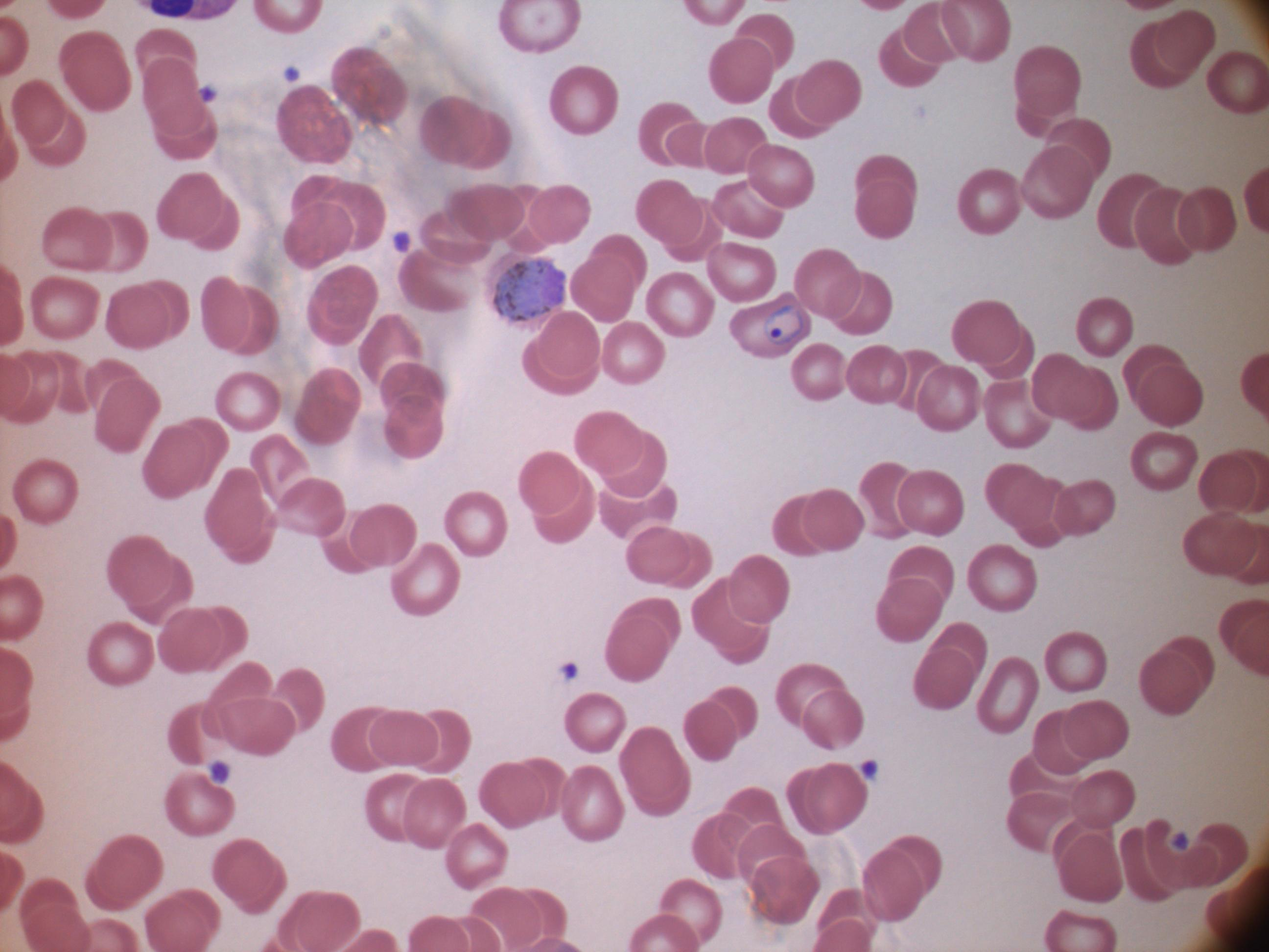Infected: (485, 248, 567, 330), (728, 293, 809, 359)
Uninfected: (774, 661, 864, 752), (575, 409, 666, 499), (875, 546, 959, 643), (107, 535, 193, 626), (46, 204, 150, 277), (156, 169, 245, 253), (520, 307, 604, 396), (203, 464, 279, 562), (142, 416, 228, 502), (567, 233, 647, 324), (910, 620, 989, 712), (769, 58, 860, 137), (419, 95, 512, 172), (690, 578, 774, 663), (1020, 139, 1107, 221), (1029, 352, 1118, 432), (1132, 7, 1220, 87), (1121, 347, 1204, 431), (860, 836, 941, 922), (91, 364, 168, 454), (376, 362, 448, 458), (284, 194, 372, 272), (11, 78, 88, 167), (276, 83, 357, 166), (201, 272, 281, 356), (635, 178, 715, 262), (208, 691, 304, 760), (157, 604, 246, 678), (105, 278, 192, 353), (84, 833, 165, 913), (985, 463, 1065, 543), (330, 46, 410, 126), (949, 298, 1032, 375), (135, 59, 218, 135), (604, 601, 680, 683), (59, 29, 134, 112), (618, 727, 689, 814), (1138, 636, 1216, 715), (306, 263, 382, 344), (786, 762, 867, 838), (1182, 512, 1268, 583), (682, 686, 760, 764), (212, 837, 288, 916), (479, 759, 562, 831), (517, 449, 600, 518), (1052, 828, 1127, 904), (626, 524, 709, 592), (748, 852, 822, 928), (732, 822, 809, 894), (1012, 44, 1082, 123), (397, 775, 469, 851), (293, 367, 363, 445), (273, 889, 361, 951), (1052, 699, 1128, 770), (446, 182, 528, 247), (708, 33, 783, 104), (1130, 183, 1198, 261), (1098, 173, 1165, 252), (598, 481, 682, 544), (794, 248, 866, 321), (357, 311, 425, 388), (344, 503, 418, 573), (473, 885, 552, 950), (365, 707, 445, 771), (723, 554, 790, 629), (164, 768, 234, 839), (1196, 449, 1269, 517), (560, 766, 627, 840), (274, 475, 349, 541), (976, 655, 1040, 732), (549, 64, 619, 134), (966, 543, 1037, 612), (705, 240, 777, 308), (143, 889, 220, 952), (30, 274, 100, 343), (893, 469, 963, 538), (745, 141, 816, 209), (397, 248, 469, 315), (859, 145, 911, 237), (983, 379, 1052, 448), (21, 884, 91, 952), (793, 488, 866, 553), (523, 184, 592, 252), (643, 271, 713, 337), (248, 431, 314, 501), (1007, 788, 1075, 855), (87, 620, 156, 686), (914, 364, 980, 433), (940, 0, 1011, 64), (716, 180, 788, 243), (1175, 185, 1238, 256), (389, 547, 456, 613), (446, 821, 510, 890), (441, 491, 503, 562), (363, 771, 425, 842), (858, 463, 919, 535), (12, 458, 78, 524), (957, 167, 1021, 235), (330, 706, 394, 774), (638, 101, 703, 167), (1130, 429, 1199, 491), (1067, 766, 1136, 828), (499, 0, 579, 53), (600, 320, 666, 384), (215, 370, 283, 432), (1215, 599, 1269, 676), (657, 879, 721, 943), (1043, 630, 1108, 693), (832, 268, 890, 337), (845, 344, 909, 406), (1050, 479, 1115, 540), (1206, 49, 1269, 111), (0, 350, 52, 424), (564, 691, 626, 753), (1189, 822, 1249, 885), (269, 666, 326, 732), (1076, 296, 1133, 356), (166, 701, 214, 770), (790, 342, 846, 399), (1046, 909, 1117, 950)
